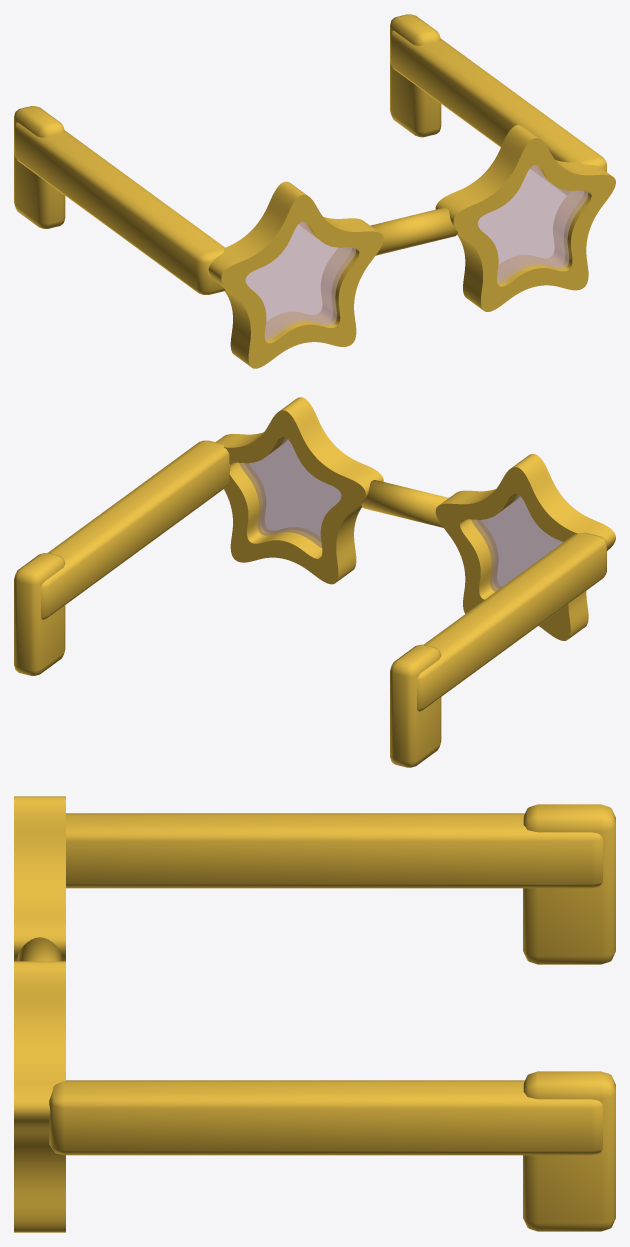
File: starglasses.glb
The picture shows the model from 3 angles, top to bottom: view 1: azimuth 30°, elevation 25°; view 2: azimuth 150°, elevation 25°; view 3: azimuth 270°, elevation 25°; orthographic projection. The views are drawn at different scales.
Visible parts, largest first — view 1: StarFrameL, StarFrameR, ArmL.007, ArmR.007, StarLensL, StarLensR, ArmRHook.007, ArmLHook.007, Bridge.005; view 2: StarFrameR, ArmL.007, ArmR.007, StarFrameL, StarLensR, ArmLHook.007, ArmRHook.007, StarLensL, Bridge.005; view 3: ArmR.007, ArmL.007, StarFrameR, ArmLHook.007, ArmRHook.007, StarFrameL, Bridge.005.
Part boxes in pixels (bbox=[...]): StarFrameL: bbox=[208, 181, 383, 368]; StarFrameR: bbox=[435, 125, 615, 311]; ArmL.007: bbox=[14, 122, 225, 294]; ArmR.007: bbox=[390, 30, 606, 194]; StarLensL: bbox=[245, 221, 355, 340]; StarLensR: bbox=[478, 165, 588, 284]; ArmRHook.007: bbox=[390, 14, 441, 137]; ArmLHook.007: bbox=[14, 106, 65, 228]; Bridge.005: bbox=[370, 207, 457, 255]; StarFrameR: bbox=[216, 397, 383, 584]; ArmL.007: bbox=[417, 532, 606, 711]; ArmR.007: bbox=[41, 440, 230, 619]; StarFrameL: bbox=[435, 454, 615, 640]; StarLensR: bbox=[239, 438, 341, 547]; ArmLHook.007: bbox=[390, 644, 441, 767]; ArmRHook.007: bbox=[14, 553, 65, 675]; StarLensL: bbox=[471, 494, 563, 591]; Bridge.005: bbox=[361, 480, 448, 527]; ArmR.007: bbox=[49, 1080, 602, 1155]; ArmL.007: bbox=[66, 813, 602, 888]; StarFrameR: bbox=[14, 961, 65, 1232]; ArmLHook.007: bbox=[523, 804, 615, 964]; ArmRHook.007: bbox=[523, 1071, 615, 1231]; StarFrameL: bbox=[14, 796, 65, 961]; Bridge.005: bbox=[17, 937, 62, 961].
Size of the model in its own units: 0.37 by 0.1405 by 0.324.
